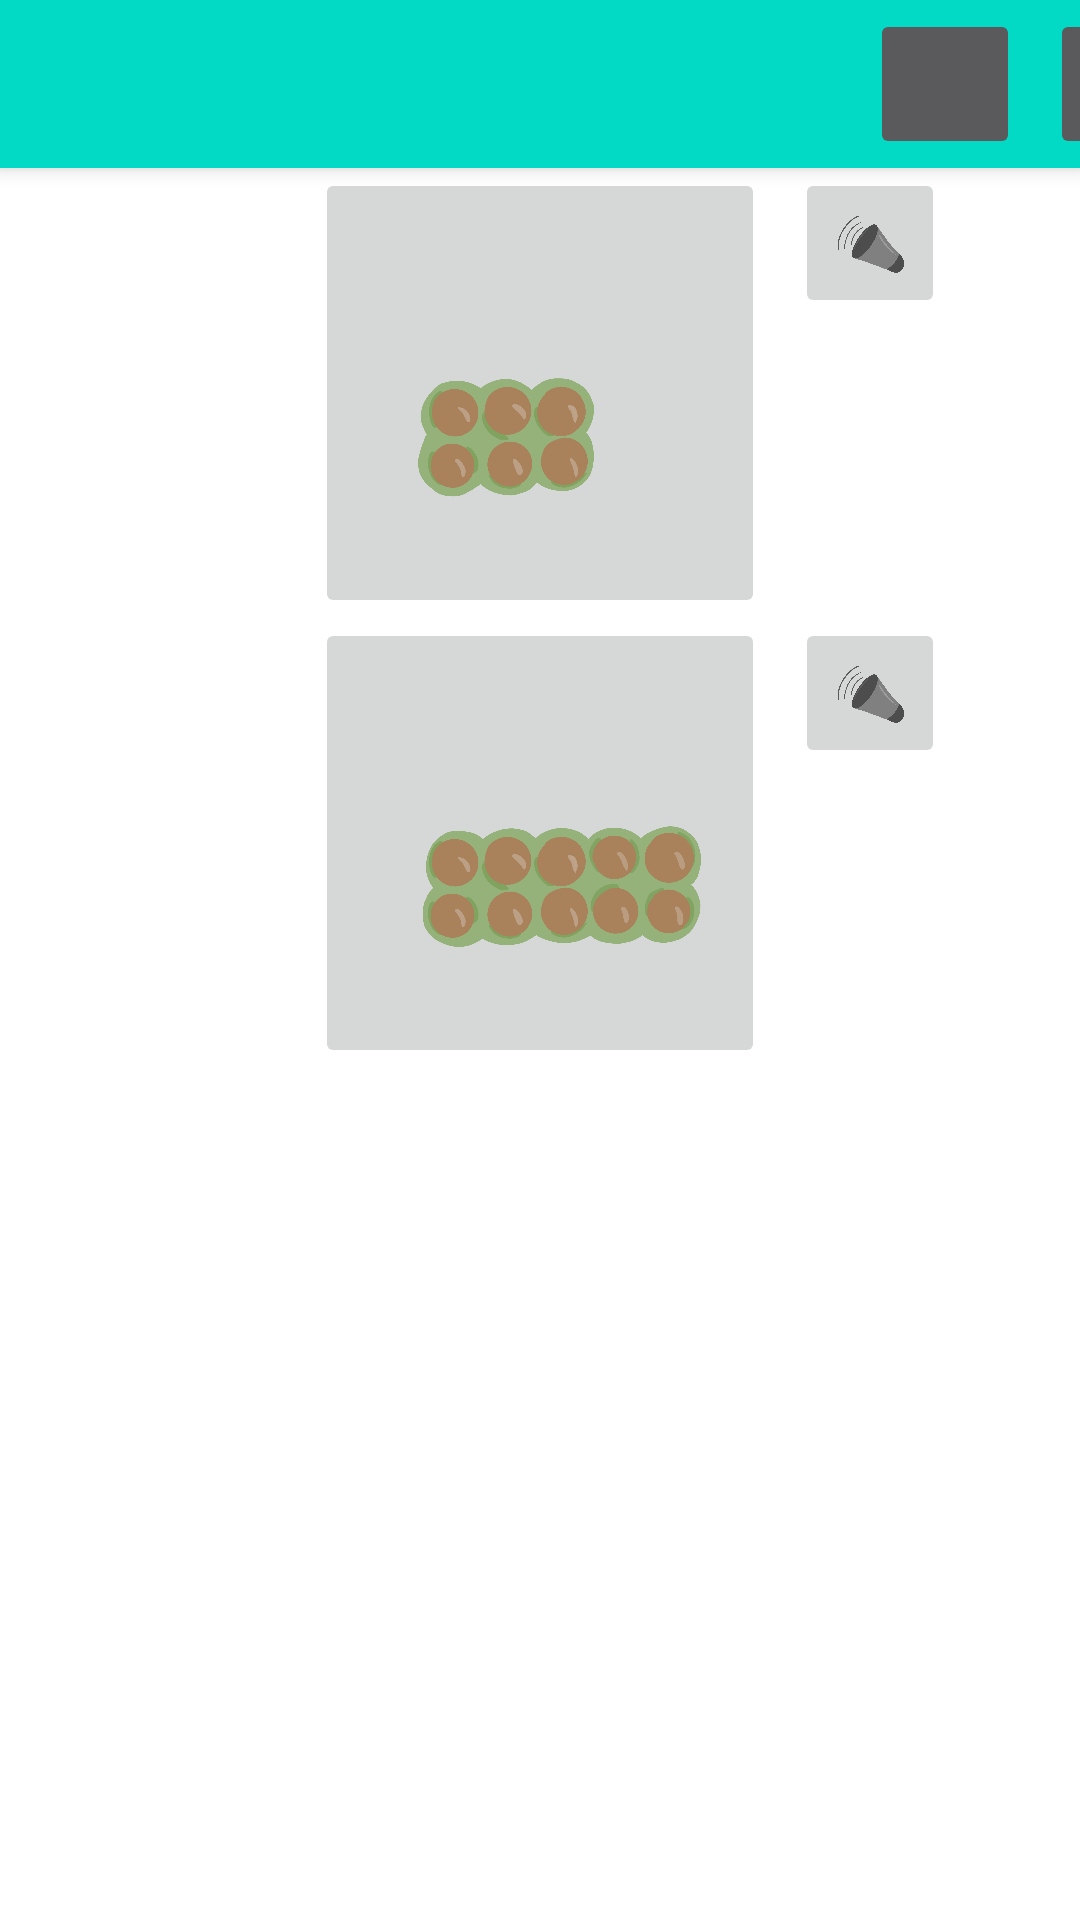

Icons on this 1080px×1920px Android screen, each with the point to tap as (x=x, y=y):
sound: (x=870, y=243), (x=870, y=693)
